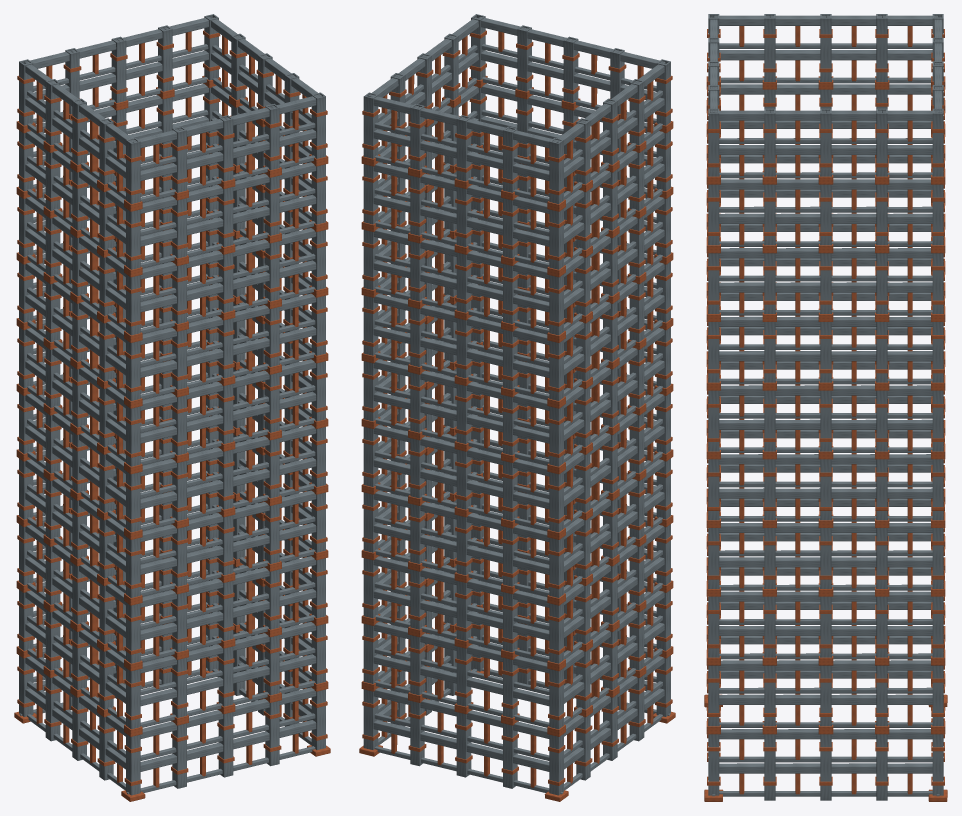
3 renders of one model, left to right at view 1: azimuth 30°, elevation 25°; view 2: azimuth 150°, elevation 25°; view 3: azimuth 270°, elevation 25°, orthographic. The views are drawn at different scales.
Parts seen in each view (by area): view 1: Tier 9 side 0 post 0, Tier 9 side 0 post 2, Tier 9 side 2 post 2, Tier 0 side 0 post 2, Tier 0 side 0 post 0, Tier 7 side 0 post 0, Tier 2 side 0 post 0, Tier 4 side 0 post 0, Tier 5 side 0 post 0, Tier 8 side 0 post 0, Tier 1 side 0 post 0, Tier 3 side 0 post 0 (+83 smaller); view 2: Tier 9 side 3 post 0, Tier 9 side 2 post 2, Tier 9 side 0 post 2, Tier 9 side 2 post 0, Tier 0 side 2 post 2, Tier 0 side 3 post 0, Tier 2 side 3 post 0, Tier 7 side 3 post 0, Tier 4 side 3 post 0, Tier 5 side 3 post 0, Tier 8 side 3 post 0, Tier 1 side 3 post 0 (+83 smaller); view 3: Tier 0 side 1 post 1, Tier 0 side 1 post 2, Tier 0 side 1 post 3, Tier 9 side 1 post 0, Tier 9 side 1 post 2, Tier 9 side 2 post 0, Tier 9 side 3 post 1, Tier 9 side 3 post 2, Tier 9 side 3 post 3, Tier 9 side 1 post 1, Tier 9 side 1 post 3, Tier 5 side 1 post 1 (+129 smaller).
Part boxes in pixels (x1=…): Tier 9 side 0 post 0: x1=126, y1=138, x2=140, y2=203; Tier 9 side 0 post 2: x1=218, y1=115, x2=233, y2=181; Tier 9 side 2 post 2: x1=111, y1=36, x2=126, y2=102; Tier 0 side 0 post 2: x1=218, y1=712, x2=233, y2=777; Tier 0 side 0 post 0: x1=126, y1=734, x2=140, y2=795; Tier 7 side 0 post 0: x1=126, y1=274, x2=140, y2=335; Tier 2 side 0 post 0: x1=126, y1=602, x2=140, y2=663; Tier 4 side 0 post 0: x1=126, y1=471, x2=140, y2=532; Tier 5 side 0 post 0: x1=126, y1=405, x2=140, y2=466; Tier 8 side 0 post 0: x1=126, y1=208, x2=140, y2=269; Tier 1 side 0 post 0: x1=126, y1=668, x2=140, y2=729; Tier 3 side 0 post 0: x1=126, y1=537, x2=140, y2=597; Tier 9 side 3 post 0: x1=549, y1=138, x2=563, y2=204; Tier 9 side 2 post 2: x1=456, y1=115, x2=471, y2=181; Tier 9 side 0 post 2: x1=563, y1=36, x2=578, y2=102; Tier 9 side 2 post 0: x1=363, y1=92, x2=378, y2=158; Tier 0 side 2 post 2: x1=456, y1=712, x2=471, y2=777; Tier 0 side 3 post 0: x1=549, y1=734, x2=563, y2=795; Tier 2 side 3 post 0: x1=549, y1=602, x2=563, y2=663; Tier 7 side 3 post 0: x1=549, y1=274, x2=563, y2=335; Tier 4 side 3 post 0: x1=549, y1=471, x2=563, y2=532; Tier 5 side 3 post 0: x1=549, y1=405, x2=563, y2=466; Tier 8 side 3 post 0: x1=549, y1=208, x2=563, y2=269; Tier 1 side 3 post 0: x1=549, y1=668, x2=563, y2=729; Tier 0 side 1 post 1: x1=764, y1=734, x2=775, y2=800; Tier 0 side 1 post 2: x1=820, y1=734, x2=831, y2=800; Tier 0 side 1 post 3: x1=876, y1=734, x2=887, y2=800; Tier 9 side 1 post 0: x1=708, y1=108, x2=719, y2=176; Tier 9 side 1 post 2: x1=820, y1=108, x2=831, y2=176; Tier 9 side 2 post 0: x1=932, y1=108, x2=943, y2=176; Tier 9 side 3 post 1: x1=876, y1=14, x2=887, y2=81; Tier 9 side 3 post 2: x1=820, y1=14, x2=831, y2=81; Tier 9 side 3 post 3: x1=764, y1=14, x2=775, y2=81; Tier 9 side 1 post 1: x1=764, y1=108, x2=775, y2=176; Tier 9 side 1 post 3: x1=876, y1=108, x2=887, y2=176; Tier 5 side 1 post 1: x1=764, y1=390, x2=775, y2=451.
Bounding box in the file's own units: 1.95 × 6.08 × 1.95.
2 materials, 2 textured.
